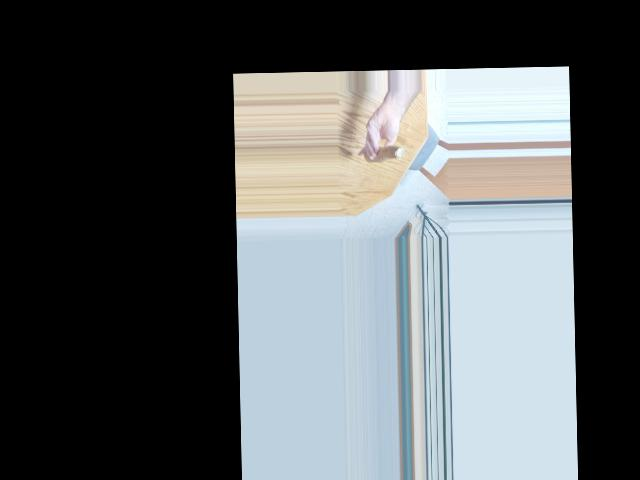sweet_potato: (366, 144, 397, 162)
